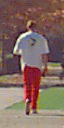person: (15, 22, 48, 111)
